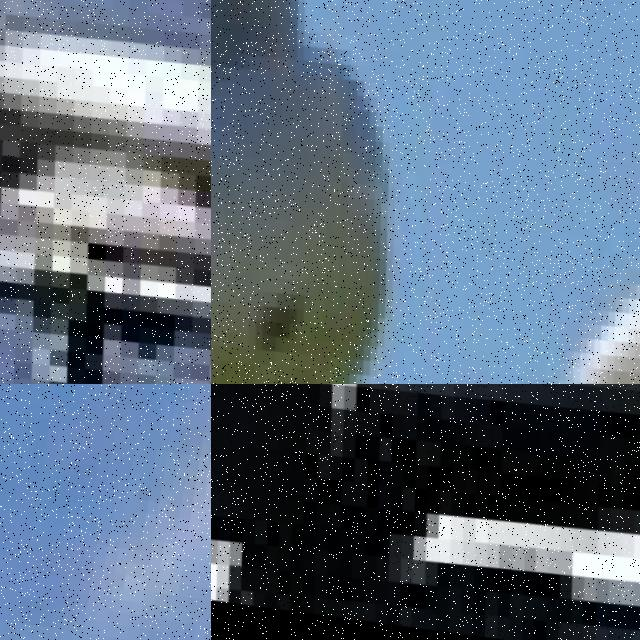drone: (211, 0, 640, 384), (211, 384, 640, 640), (0, 0, 211, 384)
